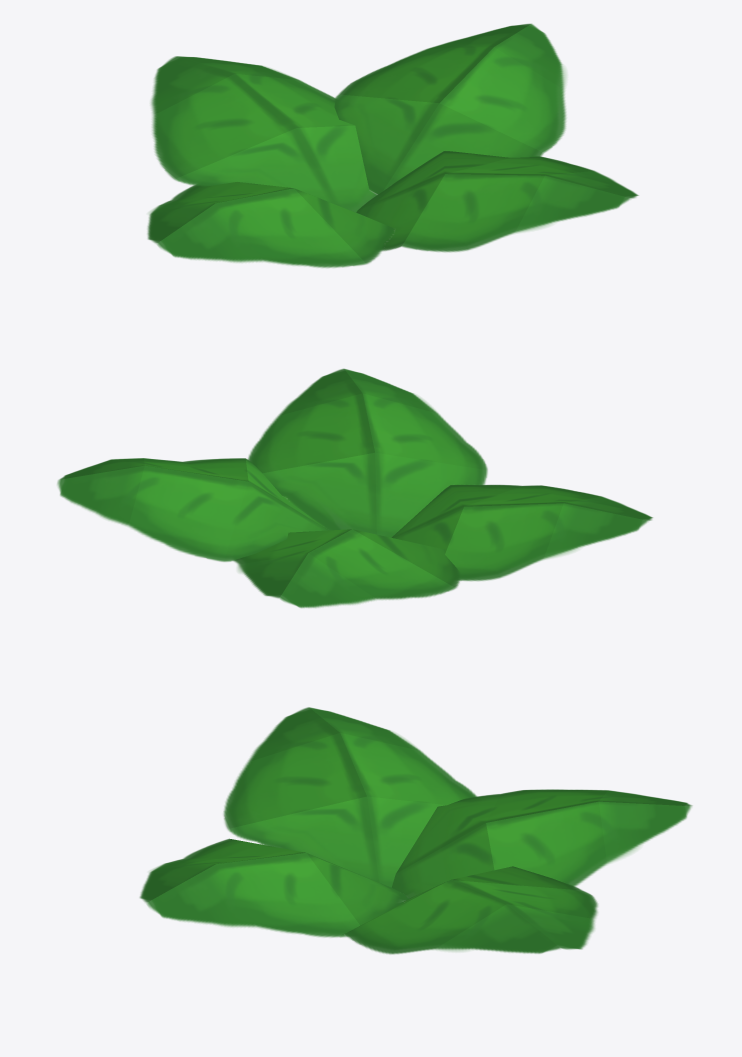
The model's file is Plant002.glb.
The picture shows the model from 3 angles, top to bottom: view 1: azimuth 30°, elevation 25°; view 2: azimuth 150°, elevation 25°; view 3: azimuth 270°, elevation 25°; orthographic projection. The views are drawn at different scales.
Parts seen in each view (by area): view 1: Plane.003; view 2: Plane.003; view 3: Plane.003.
Boxes of the visible parts, x1,y1,x2,y2 form: Plane.003: (147,23,638,267); Plane.003: (57,368,652,608); Plane.003: (139,707,692,954).
Size of the model in its own units: 1.47 by 0.1902 by 1.35.
Materials: 1 (1 with a texture image).
